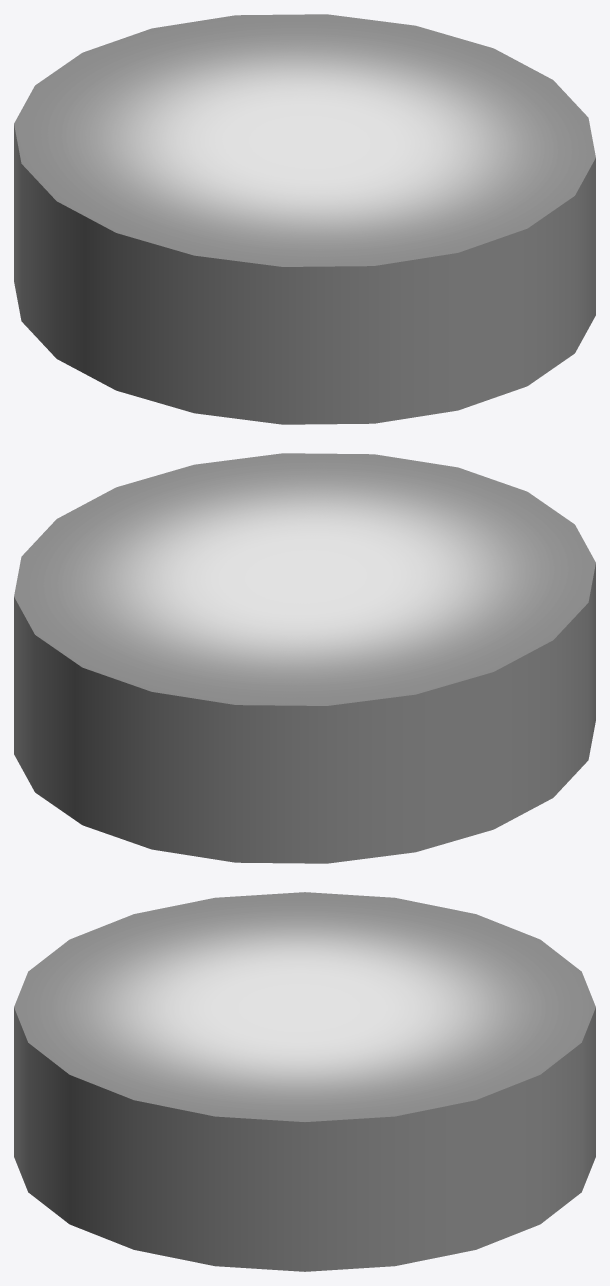
Rendered from env .fbx.
3 views of the same model, one above another, from view 1: azimuth 30°, elevation 25°; view 2: azimuth 150°, elevation 25°; view 3: azimuth 270°, elevation 25° (orthographic). The views are drawn at different scales.
Visible parts, largest first — view 1: pCylinder1; view 2: pCylinder1; view 3: pCylinder1.
Part boxes in pixels (x1,y1,x2,y2): pCylinder1: [14, 14, 595, 424]; pCylinder1: [14, 453, 595, 863]; pCylinder1: [14, 892, 595, 1271].
Size of the model in its own units: 234 by 70.93 by 250.
Materials: 2 (2 with a texture image).
